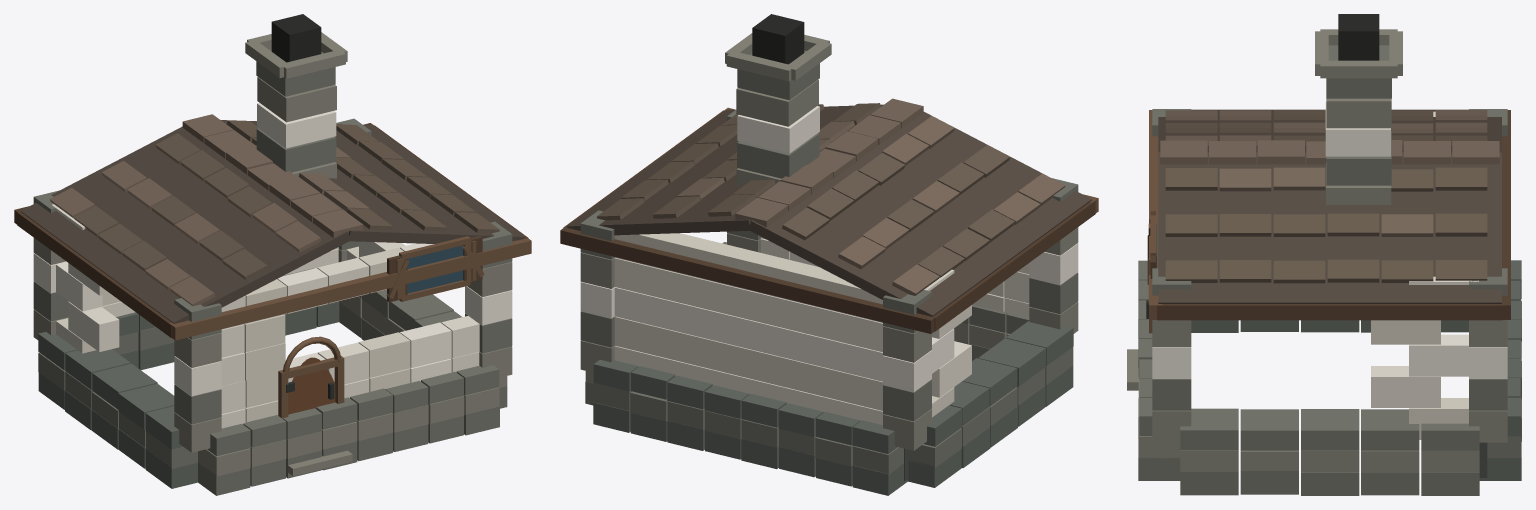
The model's file is house.glb.
3 views of the same model, side by side, from view 1: azimuth 30°, elevation 25°; view 2: azimuth 150°, elevation 25°; view 3: azimuth 270°, elevation 25° (orthographic). The views are drawn at different scales.
Visible parts, largest first — view 1: TiledRoof, StoneFoundation, StoneWalls, MasonryChimney, GlazedWindow, ArchedDoor, DoorPanel, MedievalVillageHouse, DoorArchTrim; view 2: TiledRoof, StoneWalls, StoneFoundation, MasonryChimney; view 3: TiledRoof, StoneFoundation, StoneWalls, MasonryChimney, GlazedWindow, MedievalVillageHouse.
Boxes of the visible parts, <box> form: TiledRoof: <box>14,114,531,340</box>; StoneFoundation: <box>38,268,507,495</box>; StoneWalls: <box>33,118,512,452</box>; MasonryChimney: <box>245,14,347,178</box>; GlazedWindow: <box>386,235,484,302</box>; ArchedDoor: <box>278,356,344,418</box>; DoorPanel: <box>288,357,335,414</box>; MedievalVillageHouse: <box>288,450,352,476</box>; DoorArchTrim: <box>283,336,340,375</box>; TiledRoof: <box>560,98,1098,333</box>; StoneWalls: <box>580,110,1078,450</box>; StoneFoundation: <box>585,242,1073,495</box>; MasonryChimney: <box>725,14,831,184</box>; TiledRoof: <box>1149,109,1510,320</box>; StoneFoundation: <box>1138,260,1521,495</box>; StoneWalls: <box>1152,109,1507,442</box>; MasonryChimney: <box>1315,14,1402,204</box>; GlazedWindow: <box>1148,211,1156,304</box>; MedievalVillageHouse: <box>1127,349,1138,390</box>.
Bounding box in the file's own units: 6.1 × 5.82 × 5.19.
